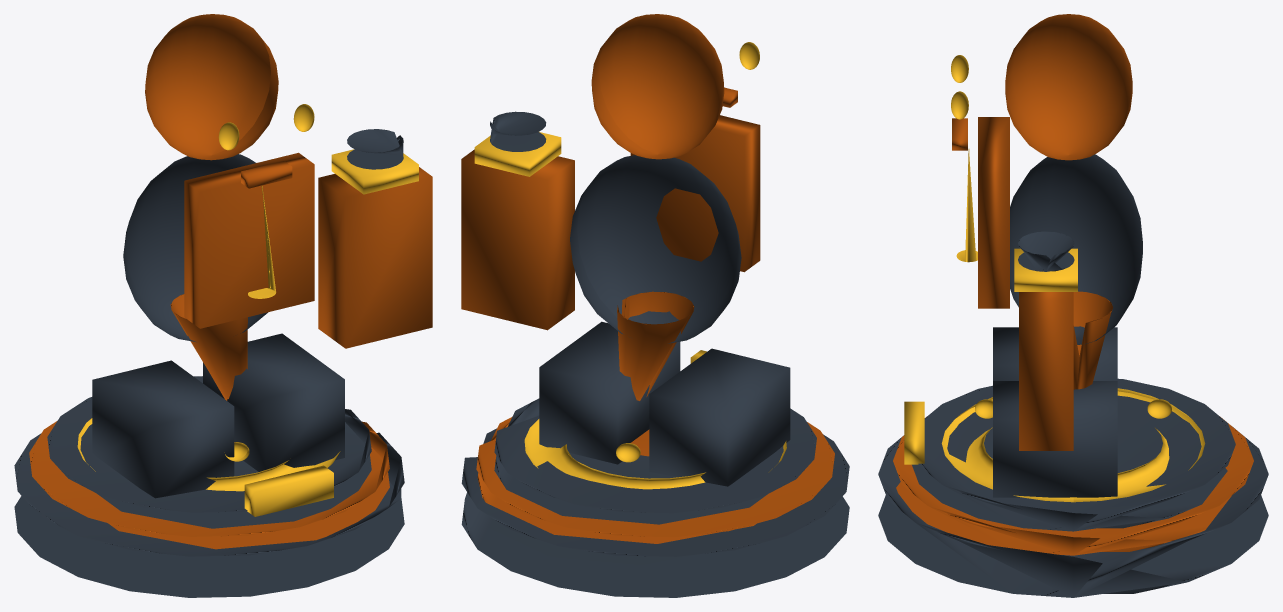
The model's file is executive_p.glb.
The picture shows the model from 3 angles, left to right: view 1: azimuth 30°, elevation 25°; view 2: azimuth 150°, elevation 25°; view 3: azimuth 270°, elevation 25°; orthographic projection.
Parts seen in each view (by area): view 1: executive_p_#303A46, executive_p_#B45309, executive_p_#FBBF24; view 2: executive_p_#303A46, executive_p_#B45309, executive_p_#FBBF24; view 3: executive_p_#303A46, executive_p_#B45309, executive_p_#FBBF24.
Part boxes in pixels (x1,y1,x2,y2): executive_p_#303A46: [14, 129, 404, 597]; executive_p_#B45309: [29, 14, 432, 549]; executive_p_#FBBF24: [77, 104, 418, 516]; executive_p_#303A46: [461, 111, 849, 597]; executive_p_#B45309: [461, 14, 834, 543]; executive_p_#FBBF24: [474, 42, 786, 489]; executive_p_#303A46: [878, 154, 1268, 597]; executive_p_#B45309: [893, 14, 1253, 555]; executive_p_#FBBF24: [904, 55, 1205, 502].
Size of the model in its own units: 1.85 by 2.41 by 1.72.
